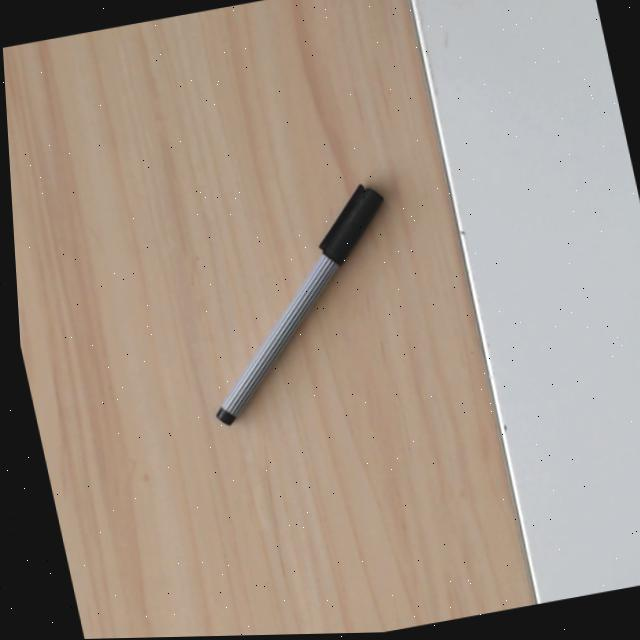Pulpen-Garis-Hitam: (206, 180, 388, 429)
